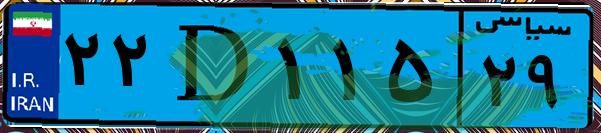1: (270, 28, 330, 110), (330, 28, 385, 110)
2: (57, 26, 110, 100), (475, 38, 525, 113), (110, 28, 158, 98)
5: (385, 28, 445, 110)
9: (525, 38, 570, 115)
D: (158, 12, 270, 120)
